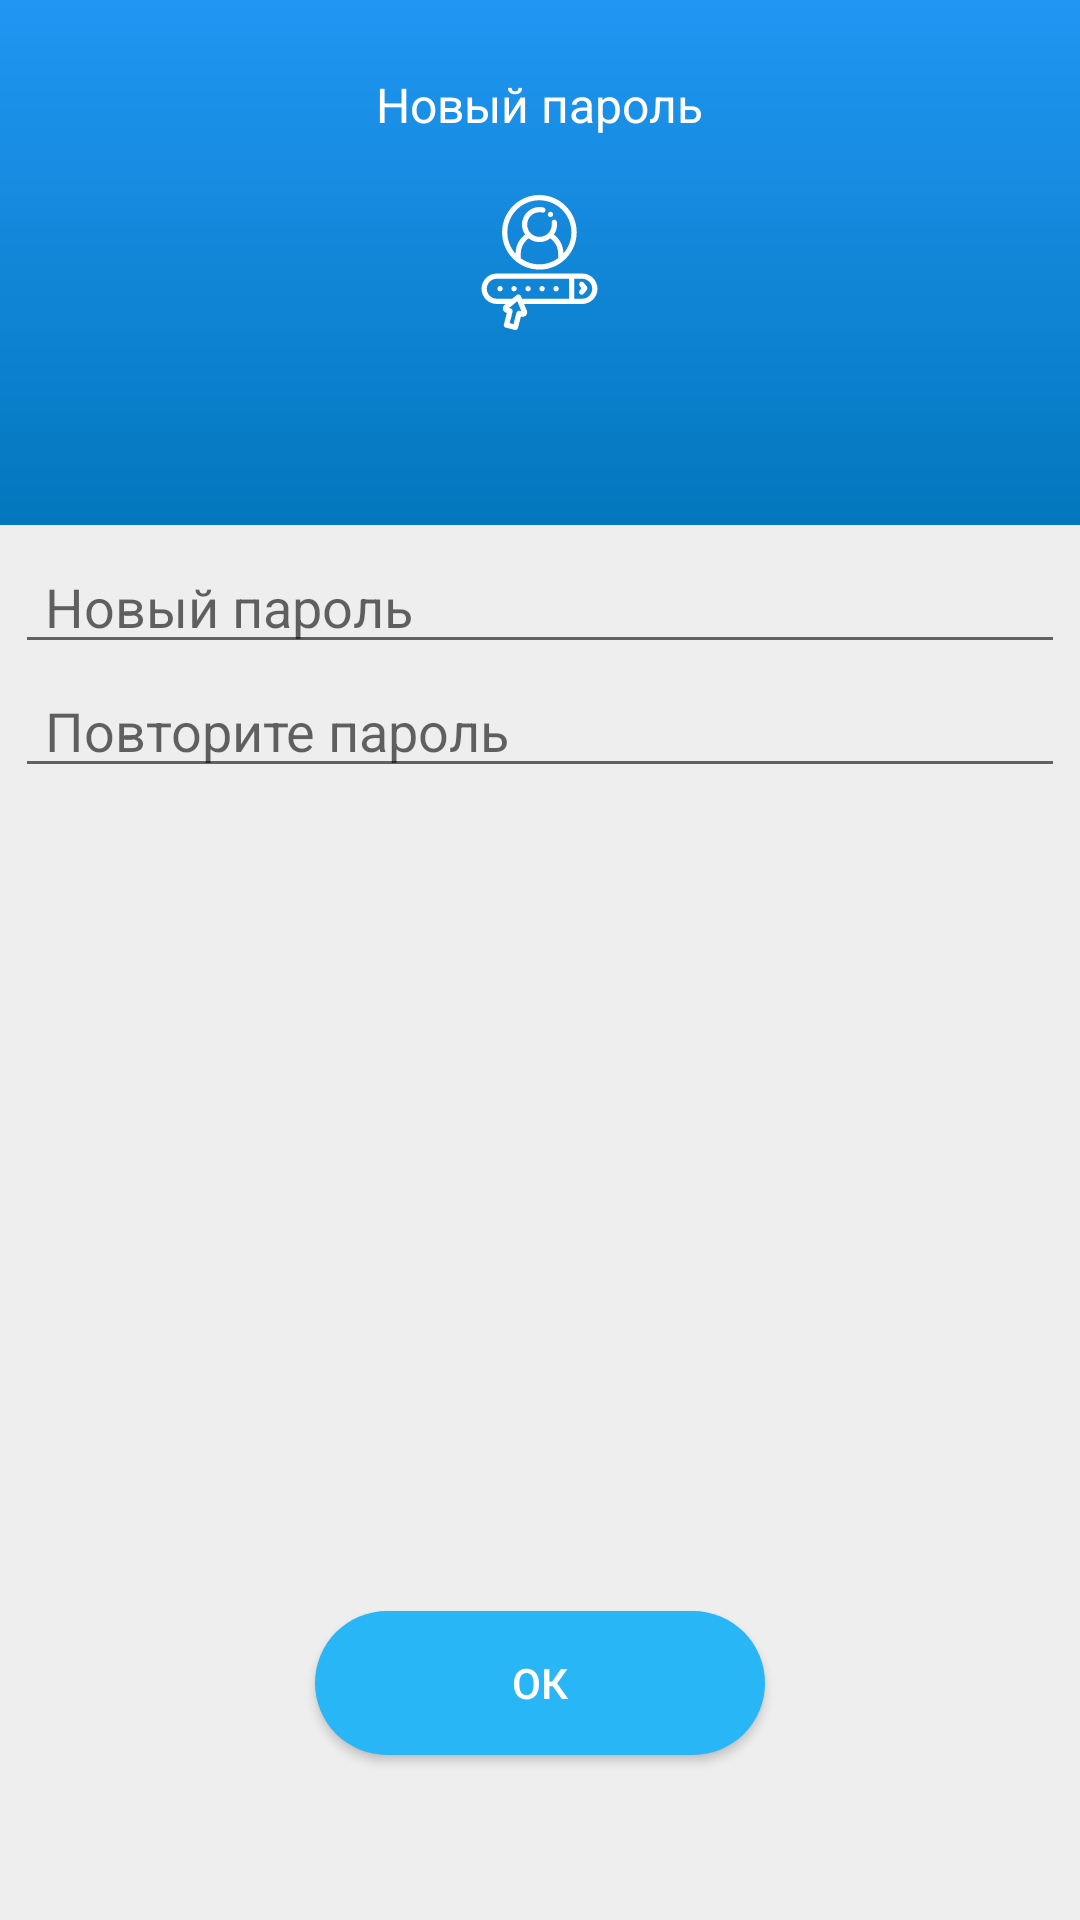

Icon click points for this 1080px x 1920px phone screenshot, format (x=x, y=y):
passwd: (x=539, y=262)
